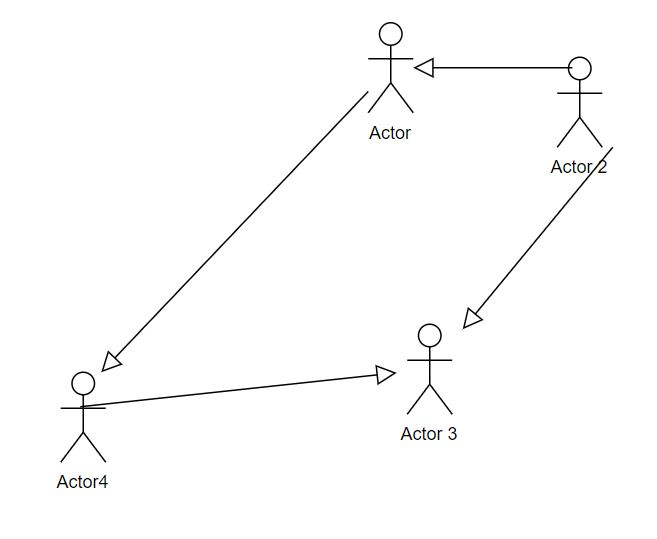actor: (402, 321, 454, 415), (368, 22, 417, 116), (59, 372, 107, 465), (557, 55, 601, 145)
generalization: (100, 90, 367, 373), (463, 147, 614, 329), (81, 364, 398, 409), (413, 57, 570, 79)
text: (53, 466, 113, 495), (546, 156, 612, 177), (400, 422, 459, 444), (365, 124, 415, 143)
